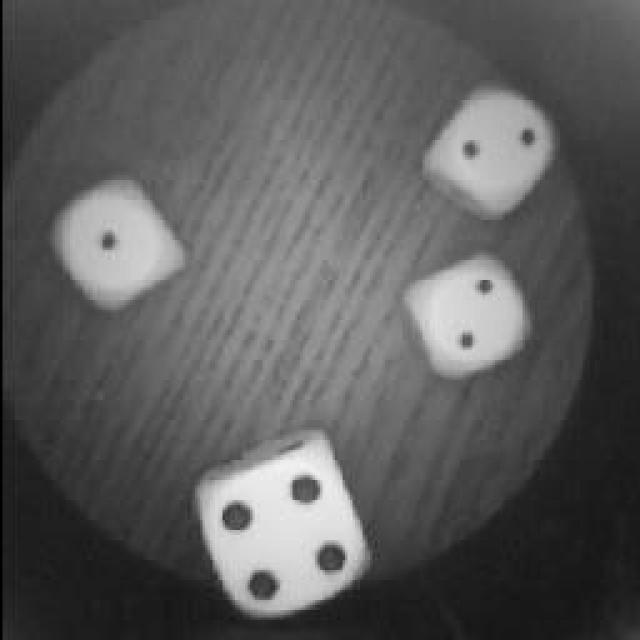dice_1: (42, 170, 180, 318)
dice_2: (420, 80, 558, 210), (408, 257, 530, 375)
dice_4: (195, 442, 370, 610)
